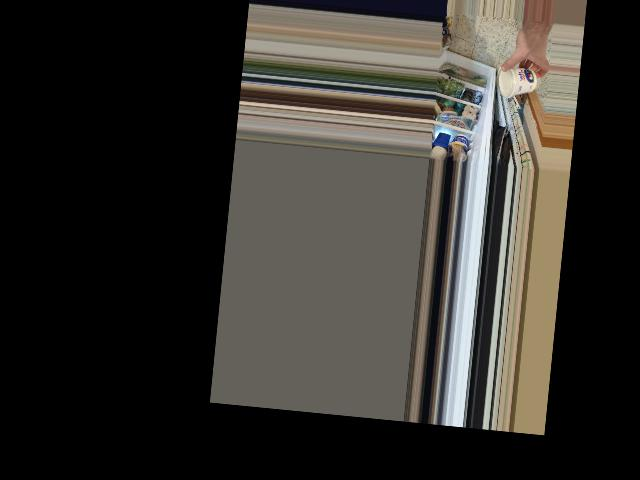cotage: (498, 62, 539, 99)
